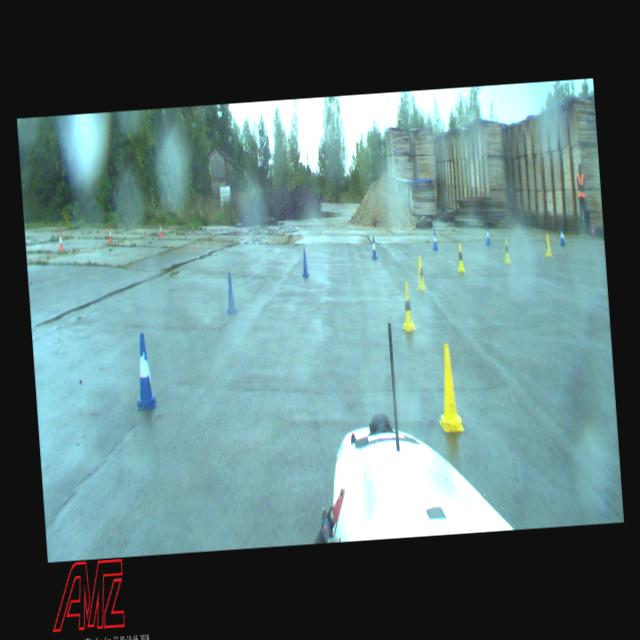blue_cone: (132, 334, 155, 408), (223, 272, 237, 314), (300, 248, 309, 276), (430, 230, 438, 250), (484, 226, 491, 243), (371, 236, 376, 256), (559, 227, 564, 244)
orange_cone: (58, 232, 63, 250), (158, 224, 162, 237), (108, 226, 111, 242)
yellow_cone: (433, 342, 463, 432), (399, 282, 416, 331), (415, 256, 424, 288), (456, 243, 464, 271), (502, 238, 510, 262), (544, 232, 552, 255)
